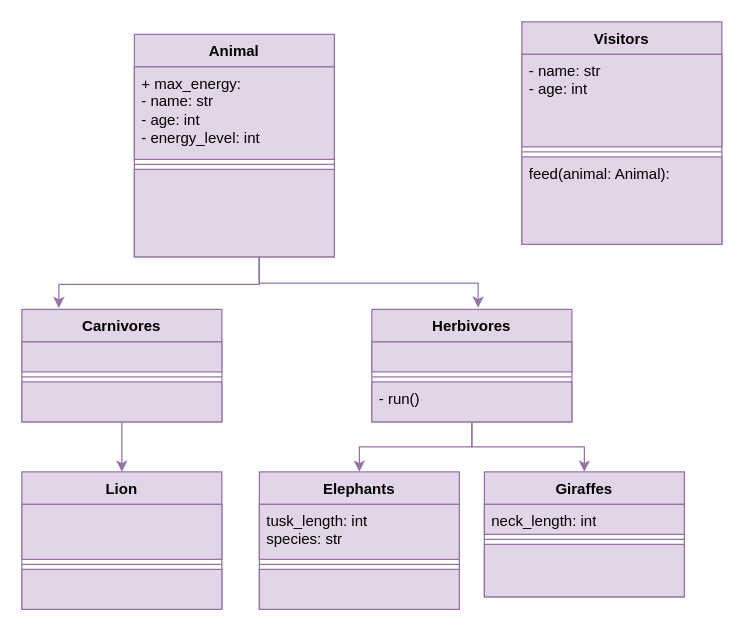
This 744x635 diagram has some shape labels left out. Here are the shapes that lost their labels. From the top down, the centre of each, then its label:
At point (233, 212): "- eat(food): - sleep(): - make_sounds():".
At point (121, 356): "- agression_level".
At point (471, 356): "- fear_level: int".
At point (121, 401): "- hunt(pray)".
At point (121, 531): "color_pattern: str gender: string".
At point (121, 588): "show_off ():".
